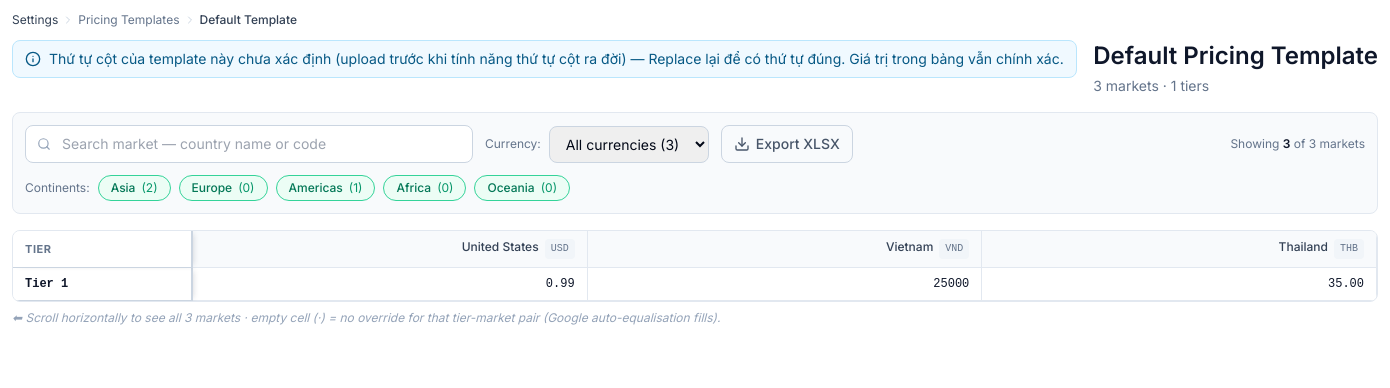
Test: lỗi route hiện ra ĐỌC ĐƯỢC, không nuốt thành toast chung › 400 → nêu lý do của server
The image size is (1390, 388).
Click the button "Export XLSX" at (787, 144), box [721,125,853,163]
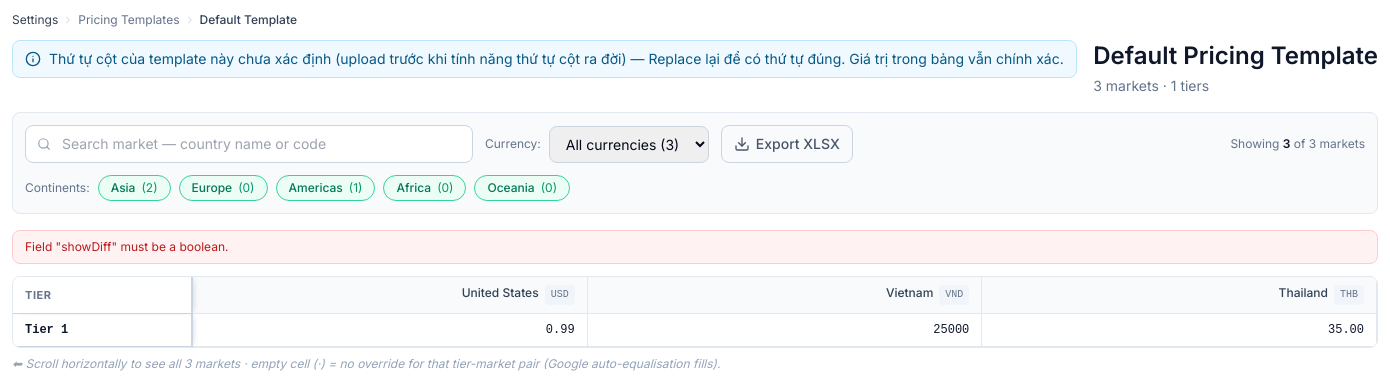
Now the message reads "Field \"showDiff\" must be a boolean.", box [25,239,228,254]
